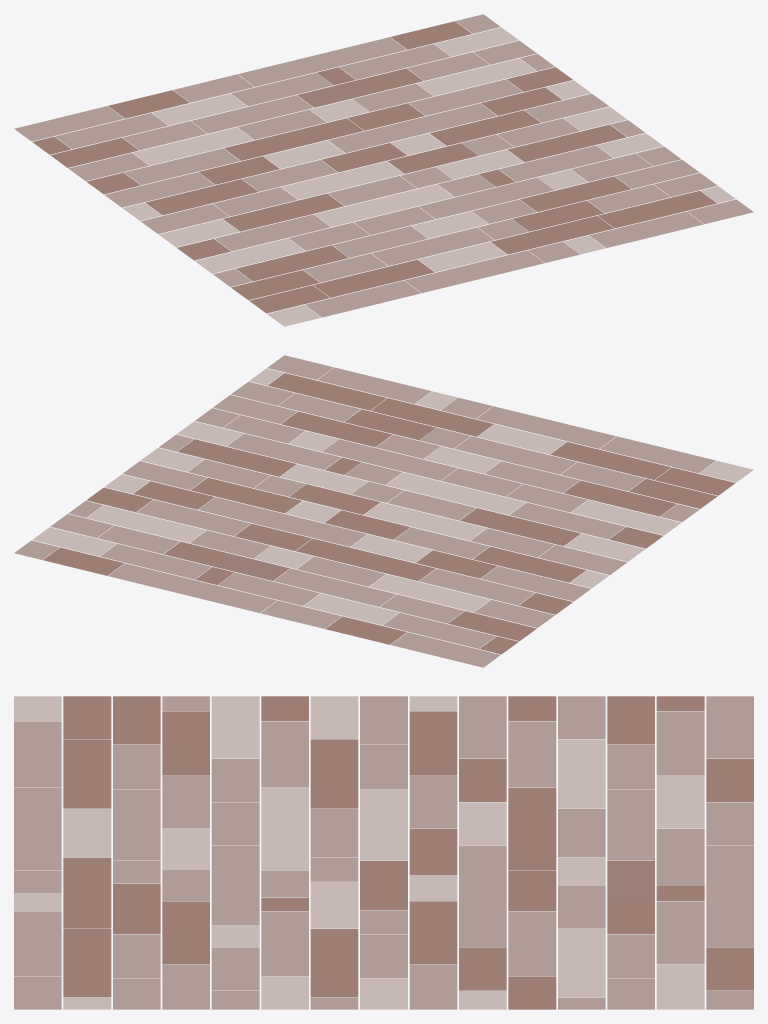
The model's file is floor_018.glb.
The picture shows the model from 3 angles, top to bottom: view 1: azimuth 30°, elevation 25°; view 2: azimuth 150°, elevation 25°; view 3: azimuth 270°, elevation 25°; orthographic projection. The views are drawn at different scales.
Visible parts, largest first — view 1: floor_018; view 2: floor_018; view 3: floor_018.
Boxes of the visible parts, x1,y1,x2,y2 form: floor_018: (14,14,753,326); floor_018: (14,355,753,667); floor_018: (14,696,753,1009).
Bounding box in the file's own units: 4 × 0 × 3.99.
1 material, 1 textured.
